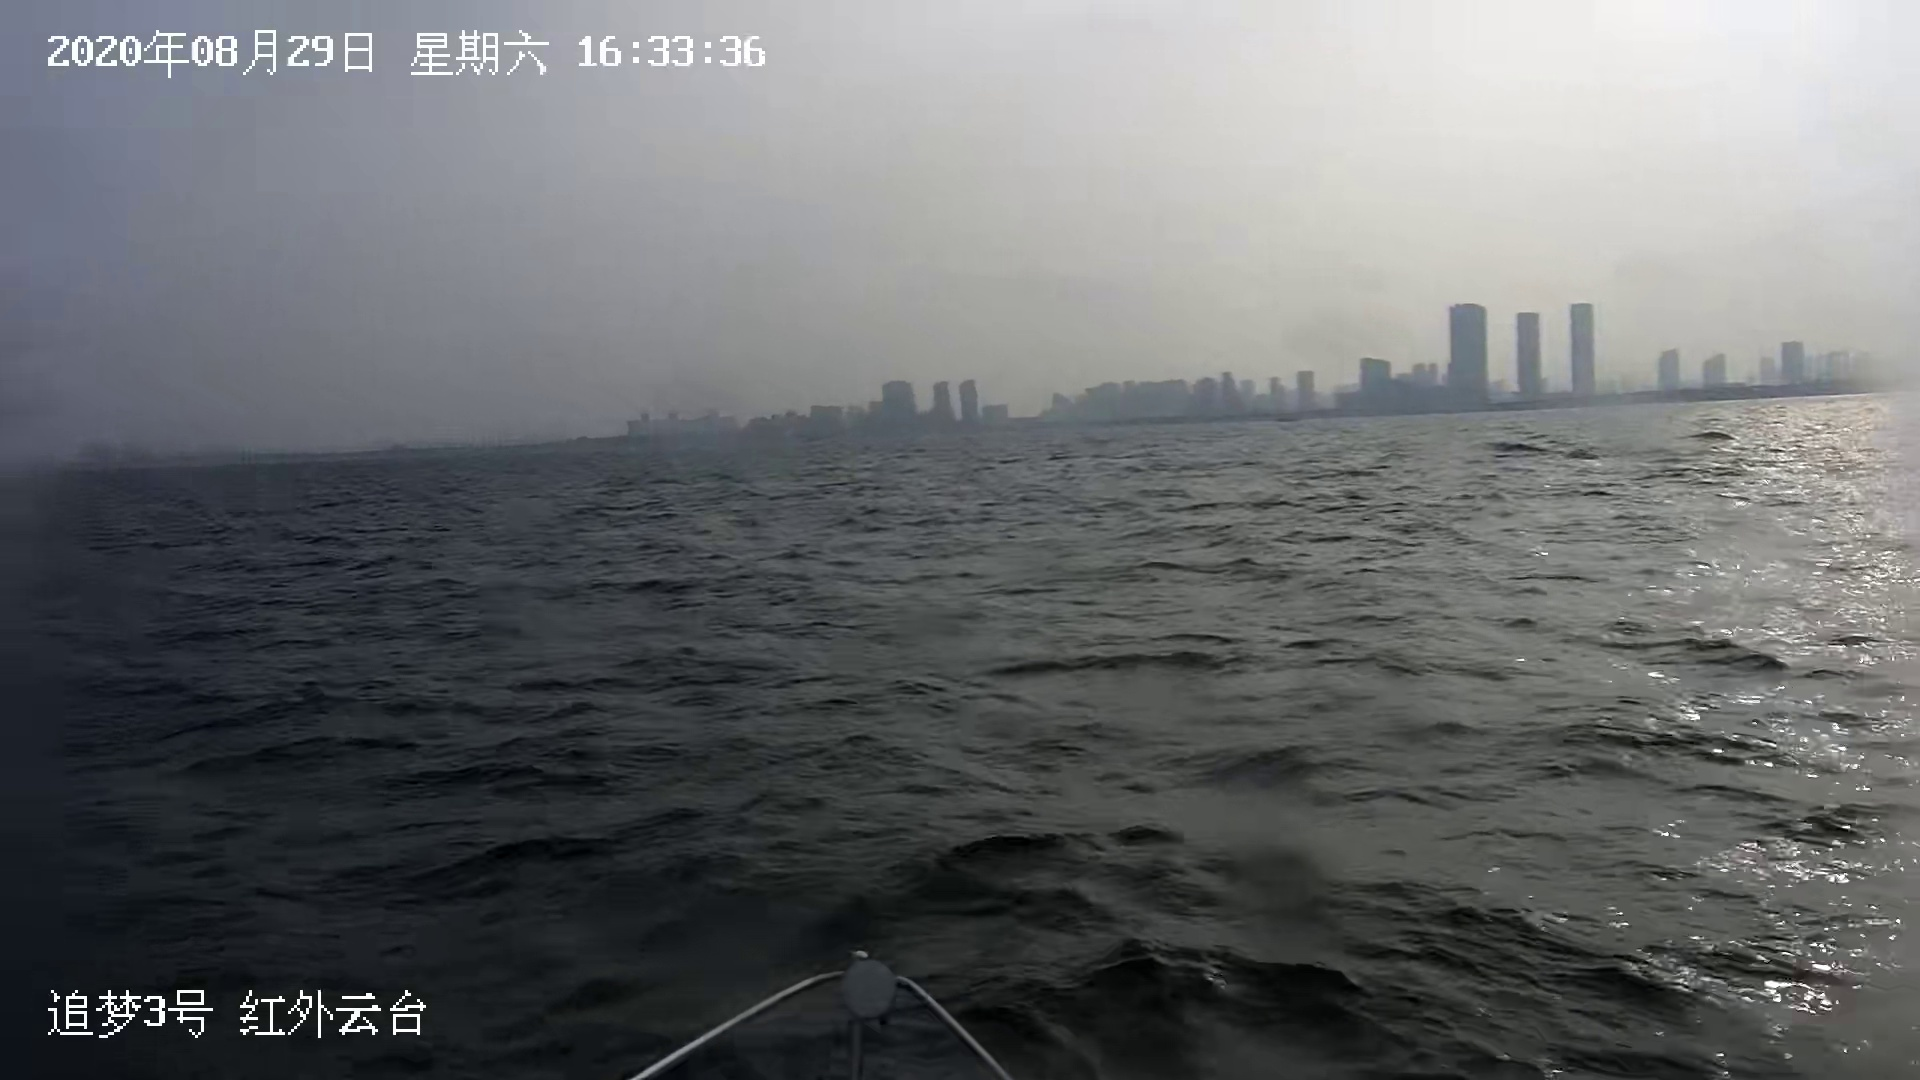coast: (22, 305, 1882, 483)
